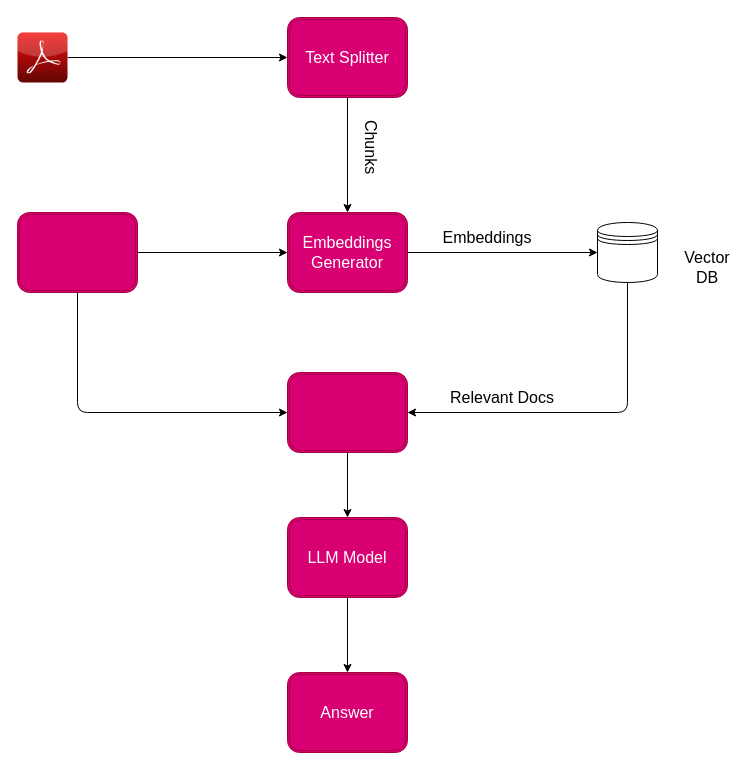
Some shapes in this 755 by 770 pixel diagram are drawn without their labels. The shapes that lost their labels are listed below. From the top down, each one's box as (x1, y1, x2, y2) in pixels, then its label:
(16, 212, 138, 292): Query
(286, 372, 408, 452): Query + Context
